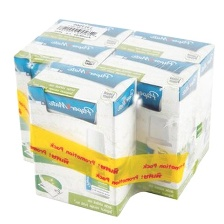book: (26, 58, 141, 220), (92, 46, 203, 201), (11, 33, 120, 176), (115, 28, 217, 174), (40, 16, 138, 148)
